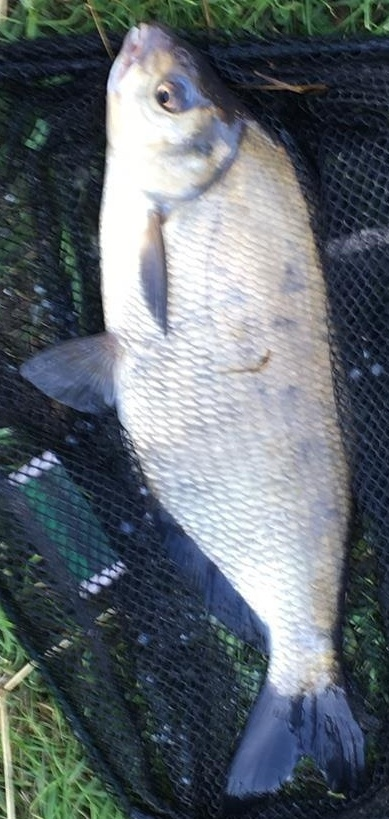Blicca bjoerkna: (20, 20, 369, 799)
